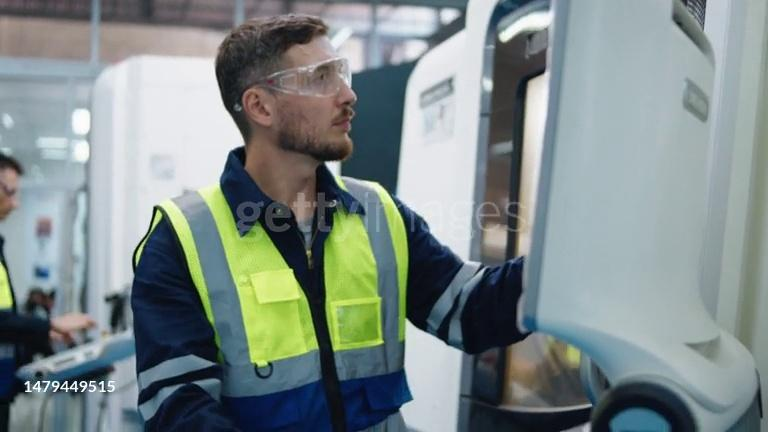person: (128, 12, 526, 432), (0, 148, 97, 432)
